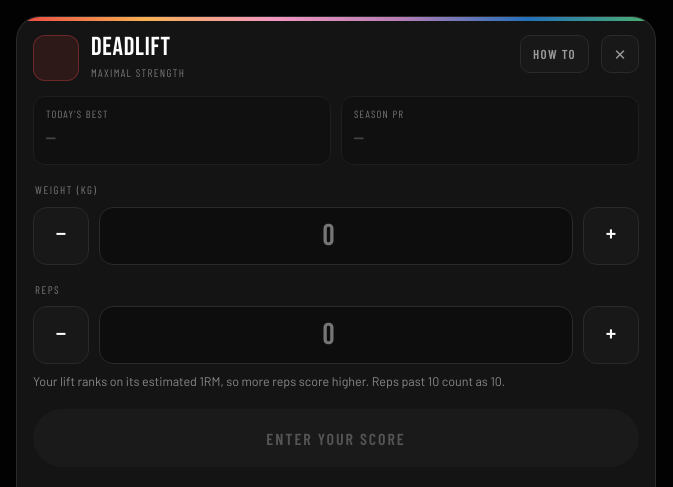
Test: the est. 1RM hint › shows the estimate once a weight and more than one rep are entered
The width and height of the screenshot is (673, 487).
Type "35" into the 1st number field with placeholder "0" at (336, 236), box [99,207,573,265]
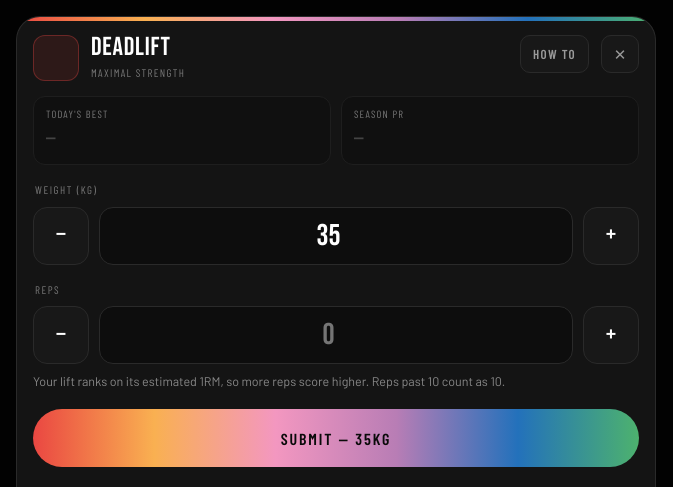
Type "5" into the number field with placeholder "0" at (336, 335), box [99,306,573,364]
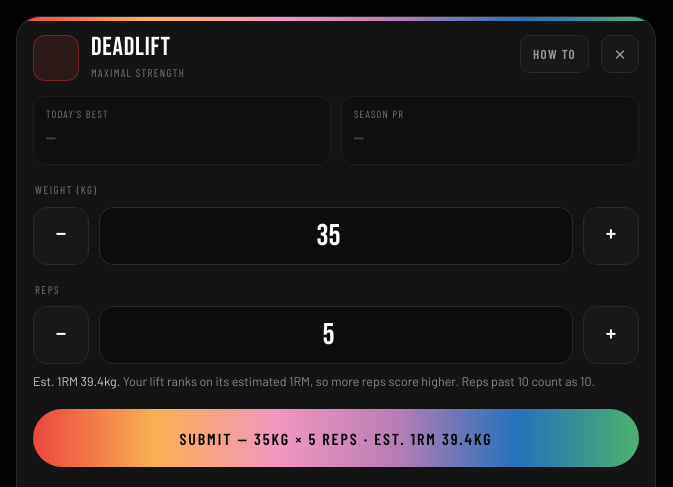
Result: the text "Est. 1RM 39.4kg." is shown at [33,373,123,389]
